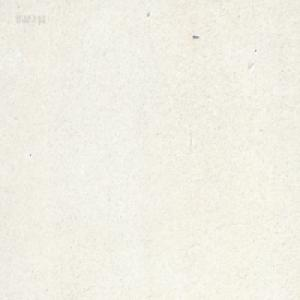Nail: (192, 33, 199, 38)
